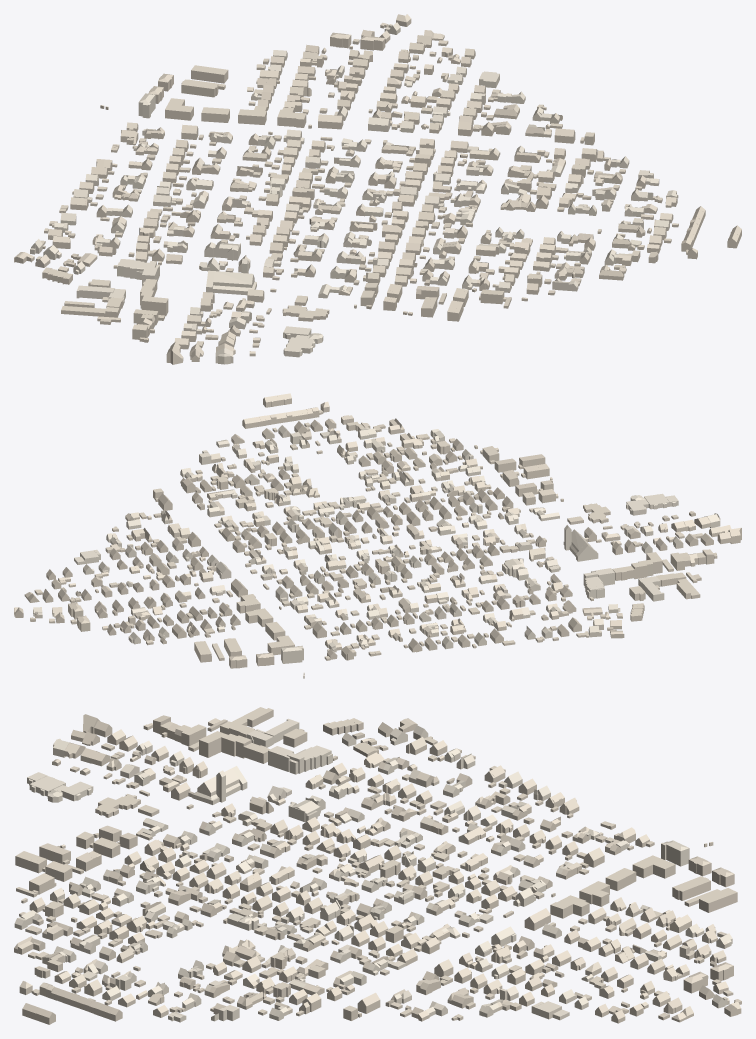
3 renders of one model, top to bottom at view 1: azimuth 30°, elevation 25°; view 2: azimuth 150°, elevation 25°; view 3: azimuth 270°, elevation 25°, orthographic. The views are drawn at different scales.
Size of the model in its own units: 649 by 32.55 by 626.
